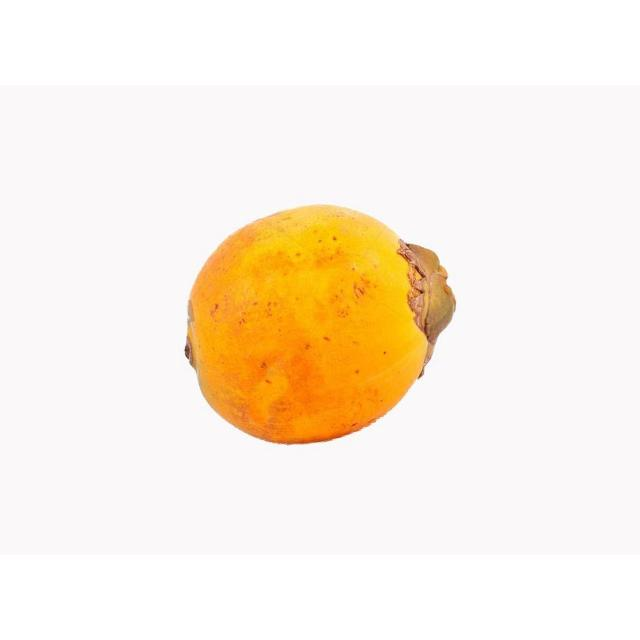good: (184, 205, 456, 447)
